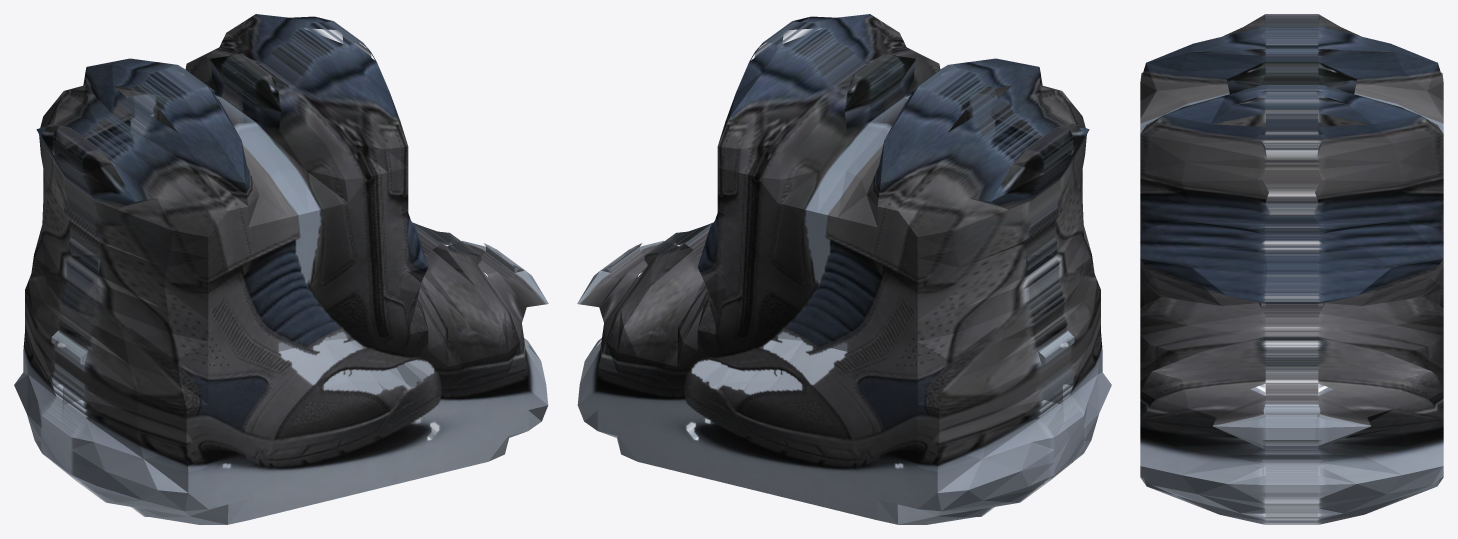
The model's file is sw-motech-horizon-sport-boot-144.glb.
The picture shows the model from 3 angles, left to right: view 1: azimuth 30°, elevation 25°; view 2: azimuth 150°, elevation 25°; view 3: azimuth 270°, elevation 25°; orthographic projection. The views are drawn at different scales.
Visible parts, largest first — view 1: world; view 2: world; view 3: world.
Part boxes in pixels (x1,y1,x2,y2): world: [14, 14, 548, 524]; world: [577, 14, 1111, 524]; world: [1140, 14, 1443, 524].
Bounding box in the file's own units: 1 × 0.8844 × 0.62.
Materials: 1 (1 with a texture image).
